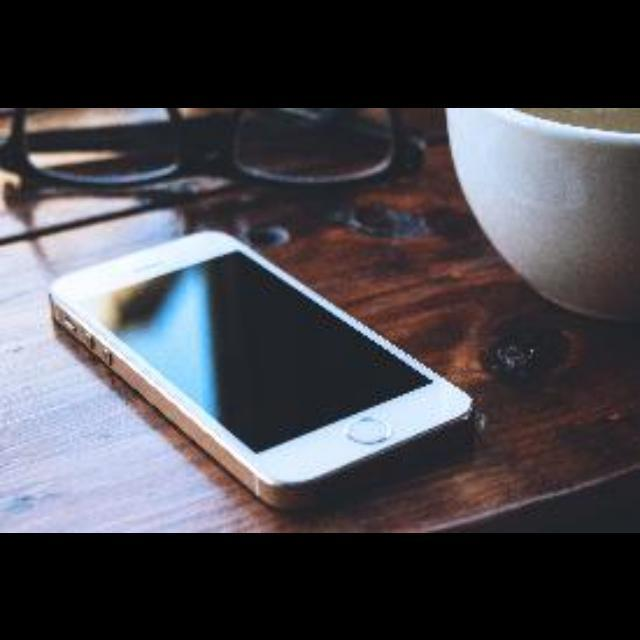phone: (28, 214, 512, 516)
